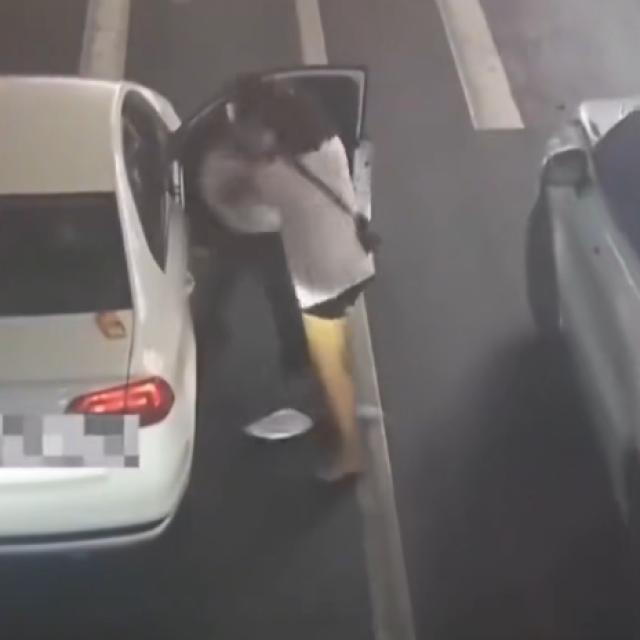fight: (208, 67, 375, 289)
